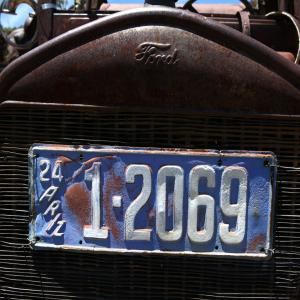Vehicle-registration-plate: (22, 144, 286, 273)
